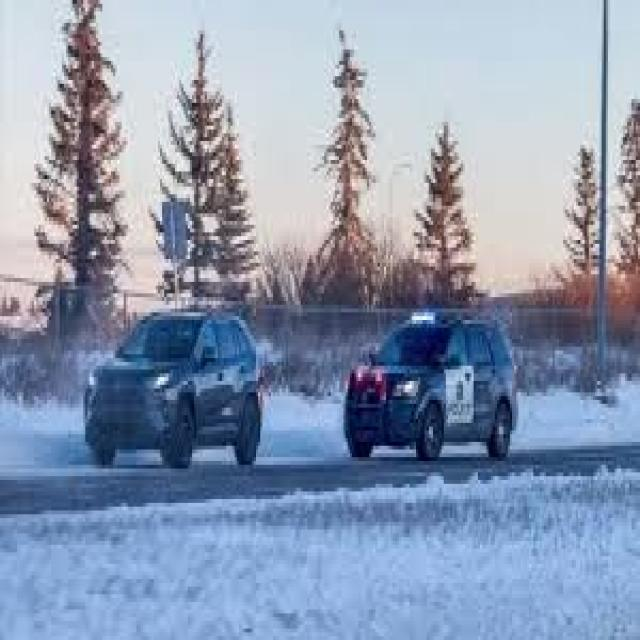cop: (345, 308, 520, 470)
